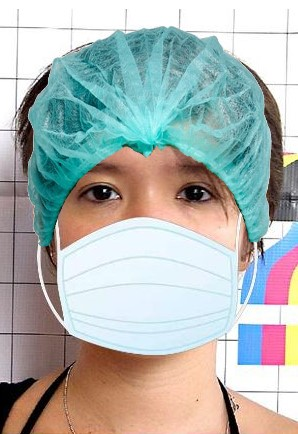with_mask_and_cap: (30, 27, 270, 356)
